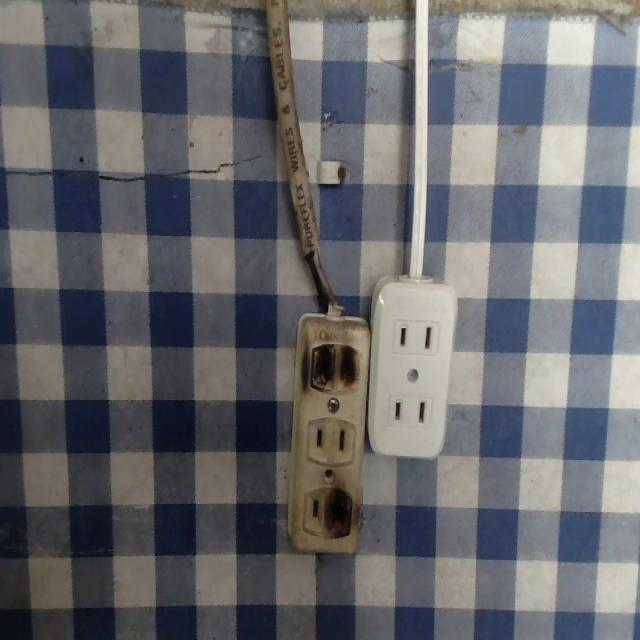-: (304, 341, 363, 396), (324, 484, 354, 543)
